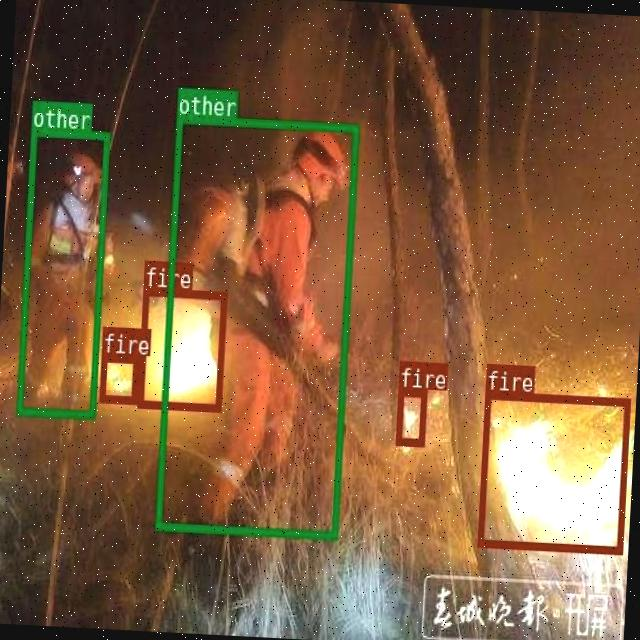fire: (477, 390, 630, 552), (136, 288, 226, 412), (98, 353, 138, 402), (395, 388, 426, 446)
